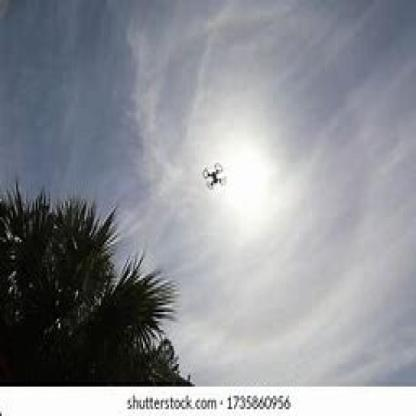drone: (201, 161, 231, 192)
